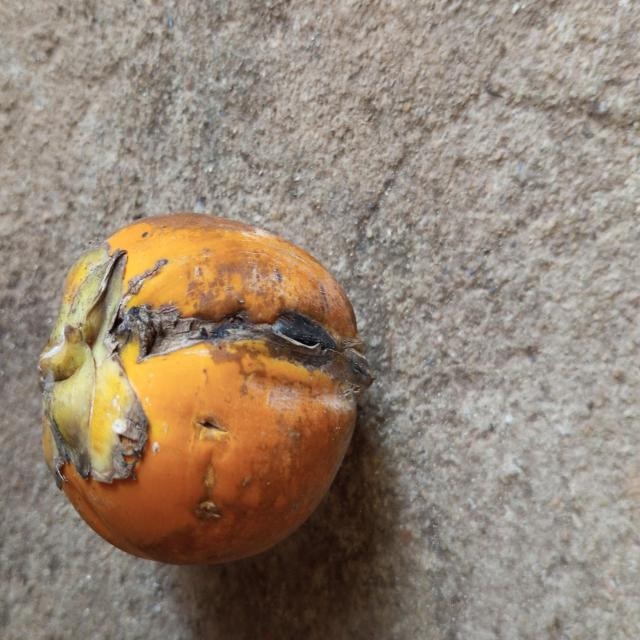damaged: (37, 214, 372, 570)
